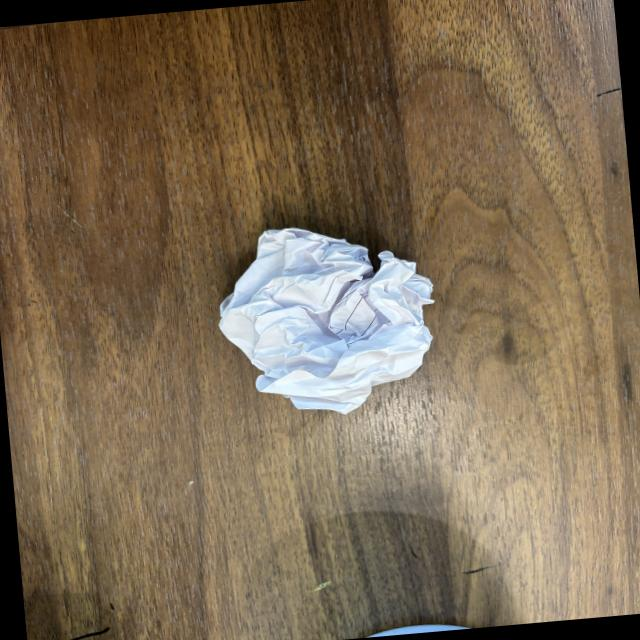crumpled_paper: (199, 205, 458, 434)
